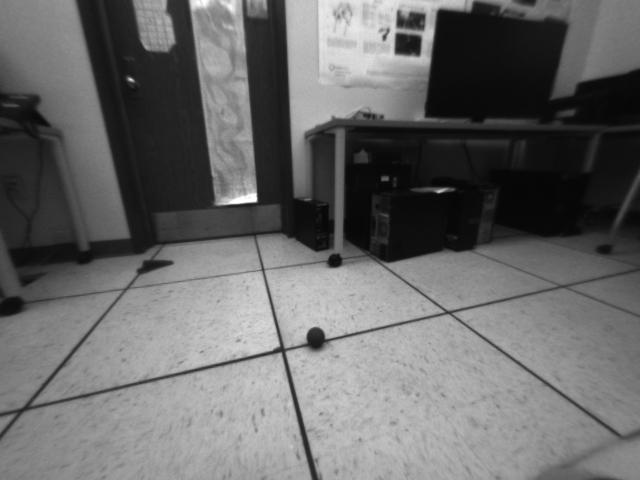dogtoy: (298, 321, 333, 354)
